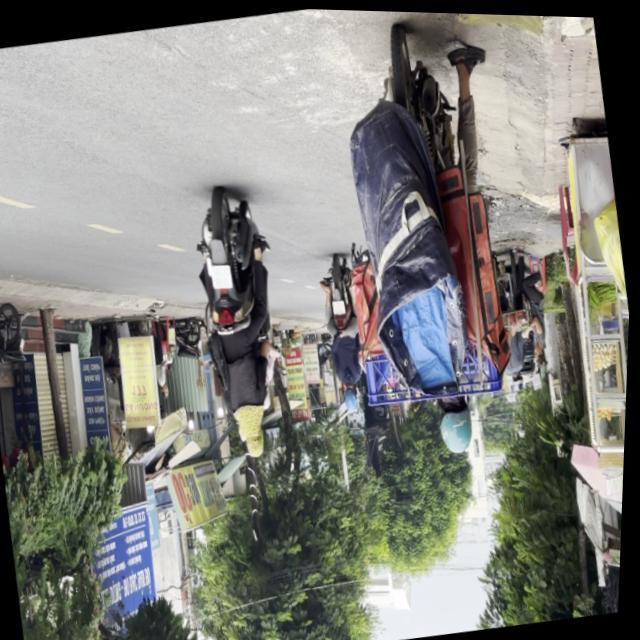helmet: (436, 395, 480, 456)
licenseplate: (312, 8, 549, 471), (178, 180, 304, 466)
motorcyclist: (233, 401, 274, 459)
nohelmet: (210, 260, 235, 290)
